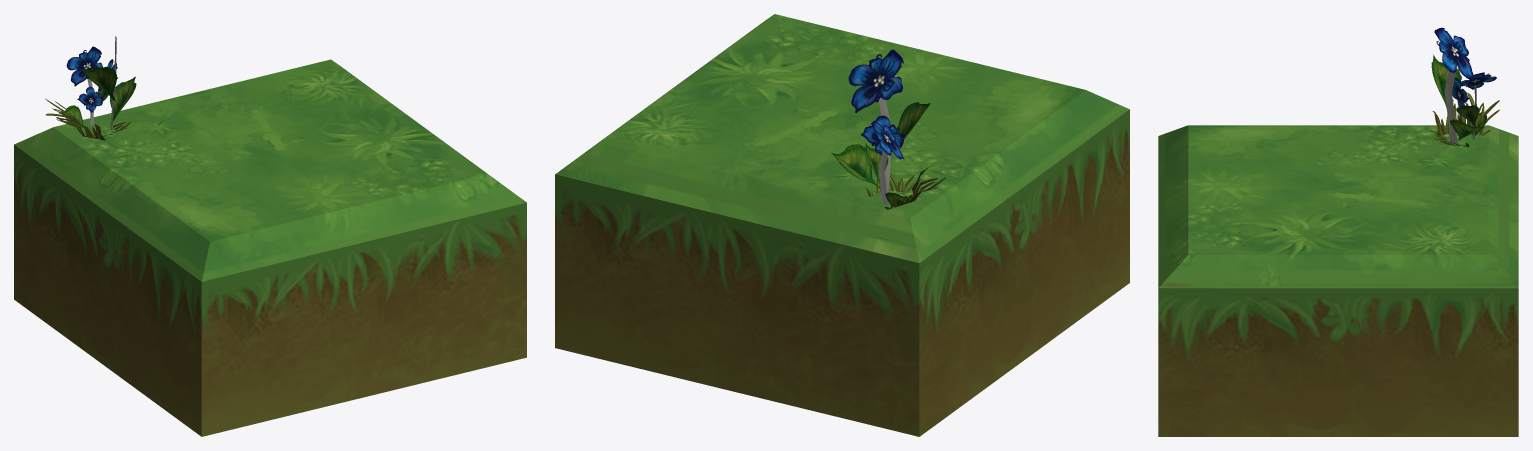
File: tile_final2.FBX
3 renders of one model, left to right at view 1: azimuth 30°, elevation 25°; view 2: azimuth 150°, elevation 25°; view 3: azimuth 270°, elevation 25°, orthographic. The views are drawn at different scales.
Parts seen in each view (by area): view 1: Prefab6; view 2: Prefab6; view 3: Prefab6.
Boxes of the visible parts, x1,y1,x2,y2 form: Prefab6: (14,36,526,436); Prefab6: (555,14,1129,436); Prefab6: (1158,27,1518,436).
Size of the model in its own units: 24.96 by 21.97 by 24.96.
2 materials, 2 textured.
